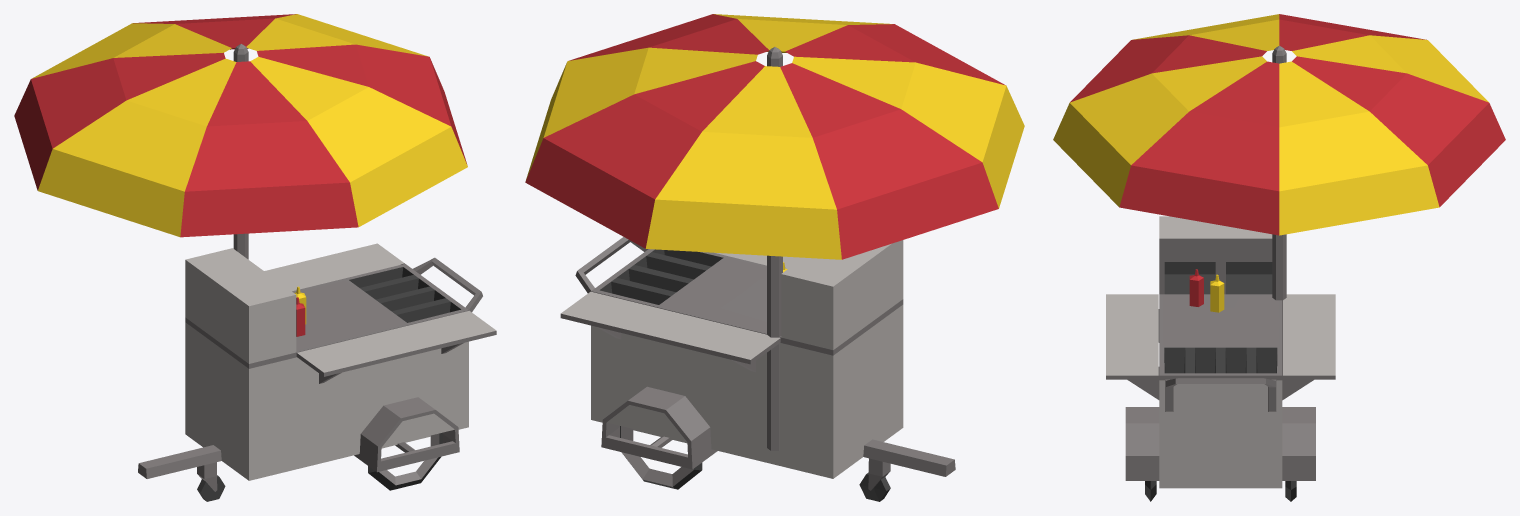
Rendered from HotDog.fbx.
3 views of the same model, side by side, from view 1: azimuth 30°, elevation 25°; view 2: azimuth 150°, elevation 25°; view 3: azimuth 270°, elevation 25° (orthographic). The views are drawn at different scales.
Parts seen in each view (by area): view 1: hot-dog-stand; view 2: hot-dog-stand; view 3: hot-dog-stand.
Boxes of the visible parts, x1,y1,x2,y2 form: hot-dog-stand: (14,14,496,501); hot-dog-stand: (525,14,1024,501); hot-dog-stand: (1053,14,1505,501).
Bounding box in the file's own units: 516 × 507 × 516.
